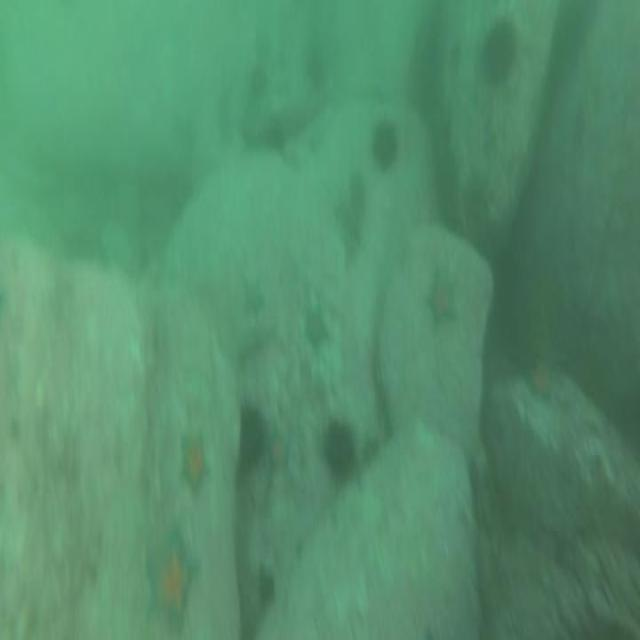echinus: (478, 14, 518, 95), (322, 416, 361, 482), (235, 402, 269, 472), (368, 112, 402, 177), (302, 48, 327, 92), (255, 564, 277, 608), (249, 59, 270, 101)
starfish: (140, 518, 201, 637), (176, 425, 213, 503), (422, 266, 462, 330), (521, 350, 557, 410), (300, 296, 334, 358), (263, 425, 294, 482), (238, 270, 268, 324)
